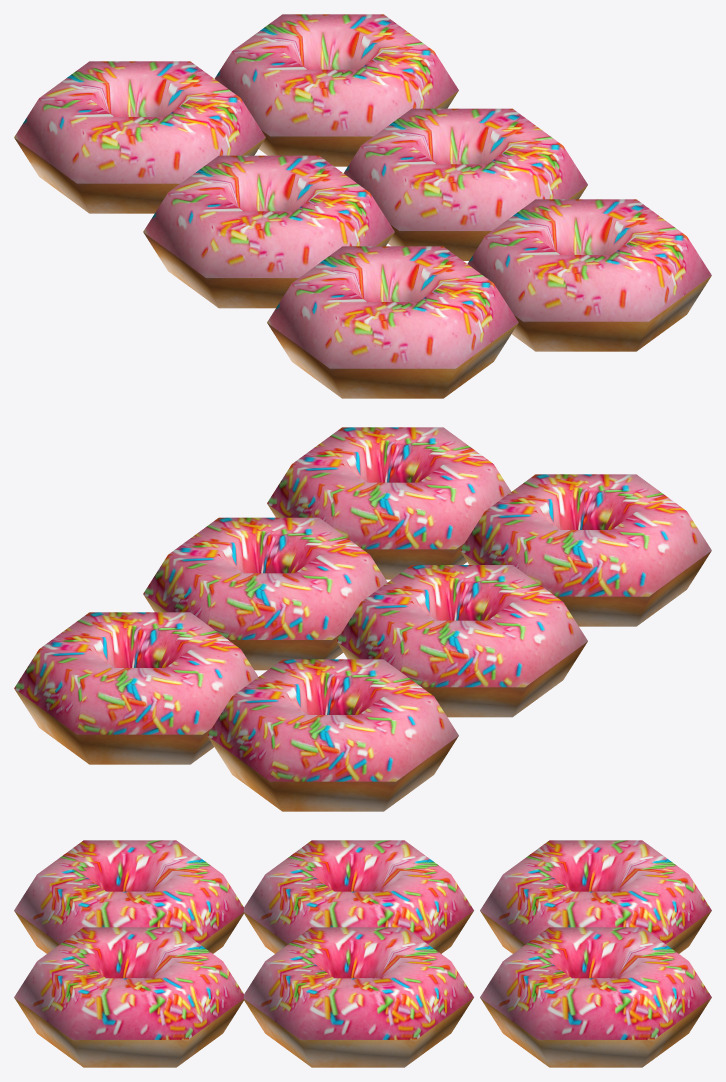
The model's file is donutpinkpile.fbx.
The picture shows the model from 3 angles, top to bottom: view 1: azimuth 30°, elevation 25°; view 2: azimuth 150°, elevation 25°; view 3: azimuth 270°, elevation 25°; orthographic projection. The views are drawn at different scales.
Parts seen in each view (by area): view 1: DonutSingle.005; view 2: DonutSingle.005; view 3: DonutSingle.005.
Part boxes in pixels (x1=…): DonutSingle.005: x1=14, y1=14, x2=711, y2=398; DonutSingle.005: x1=14, y1=427, x2=711, y2=811; DonutSingle.005: x1=14, y1=840, x2=711, y2=1067.
Size of the model in its own units: 94.03 by 18.45 by 161.
